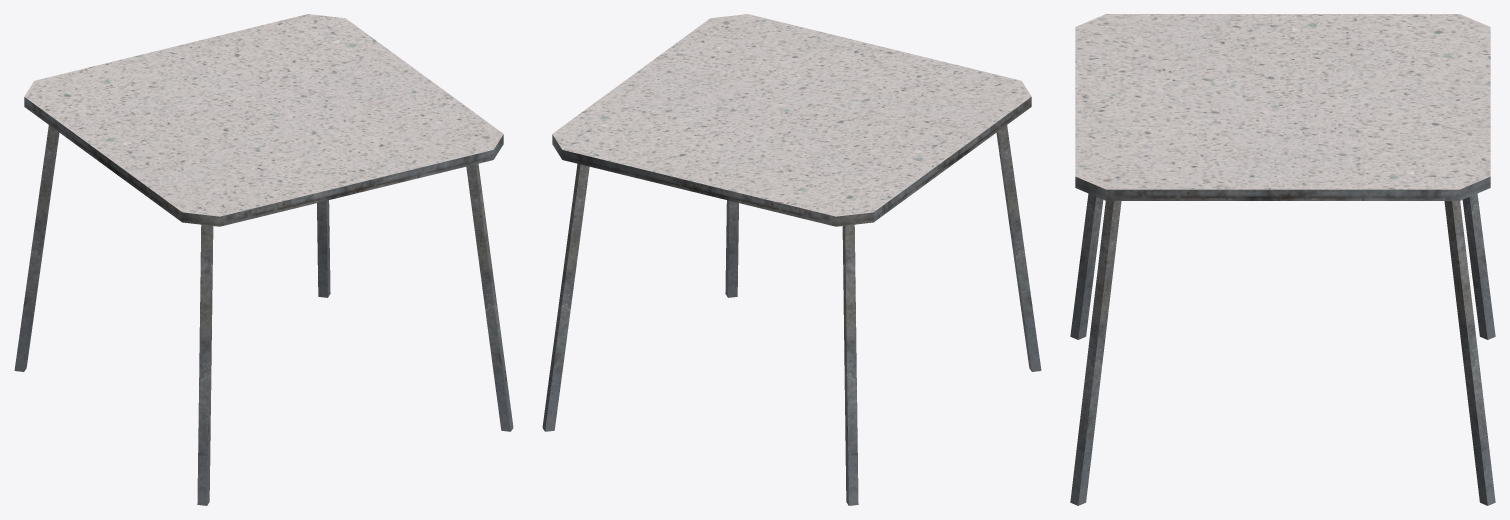
The model's file is table.glb.
The picture shows the model from 3 angles, left to right: view 1: azimuth 30°, elevation 25°; view 2: azimuth 150°, elevation 25°; view 3: azimuth 270°, elevation 25°; orthographic projection. The views are drawn at different scales.
Visible parts, largest first — view 1: Table.-col; view 2: Table.-col; view 3: Table.-col.
Part boxes in pixels (x1,y1,x2,y2): Table.-col: [14, 14, 513, 505]; Table.-col: [542, 14, 1041, 505]; Table.-col: [1070, 14, 1495, 505].
Bounding box in the file's own units: 1.09 × 0.917 × 1.11.
Materials: 1 (1 with a texture image).
